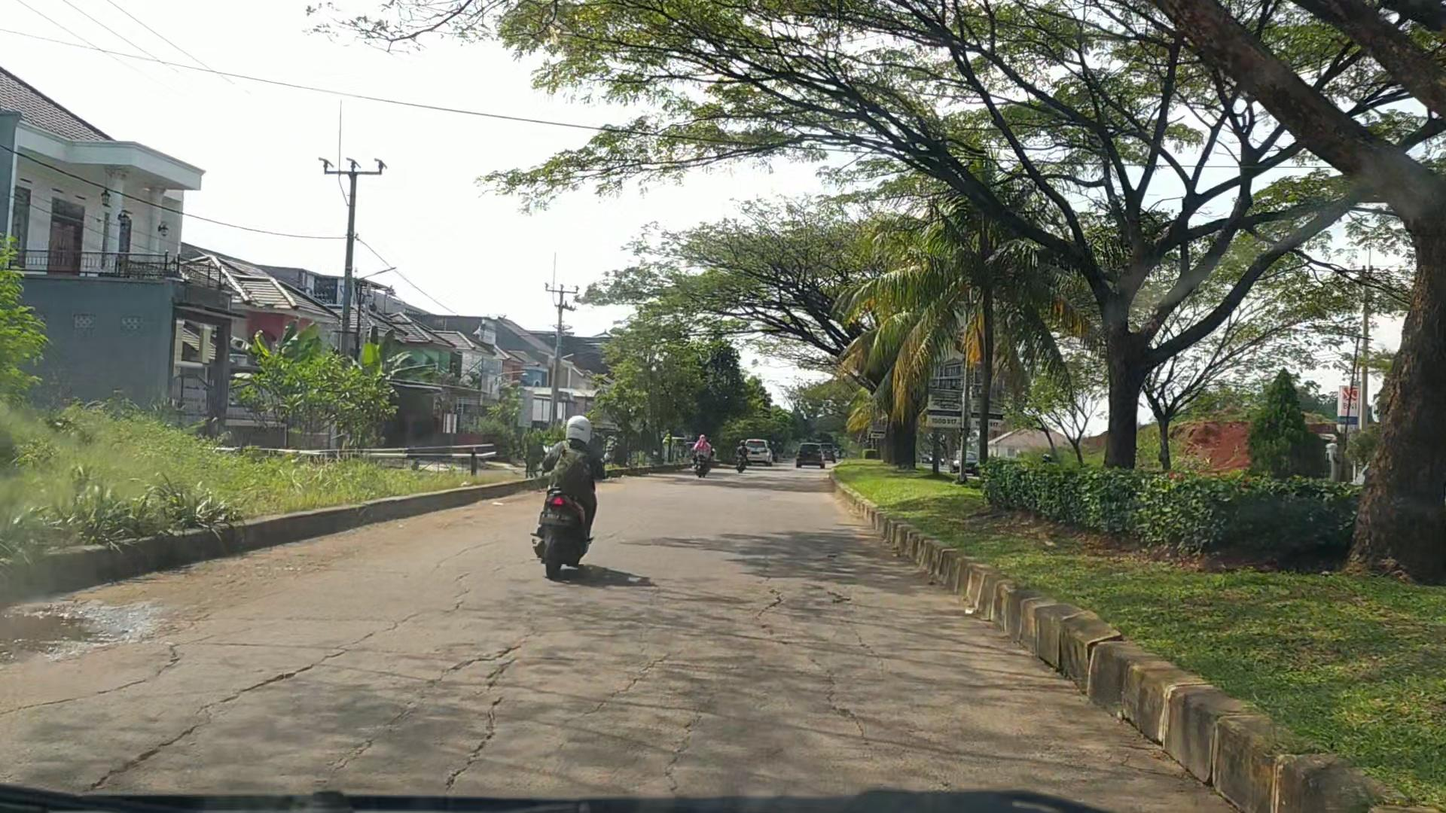pothole: (0, 594, 147, 668)
